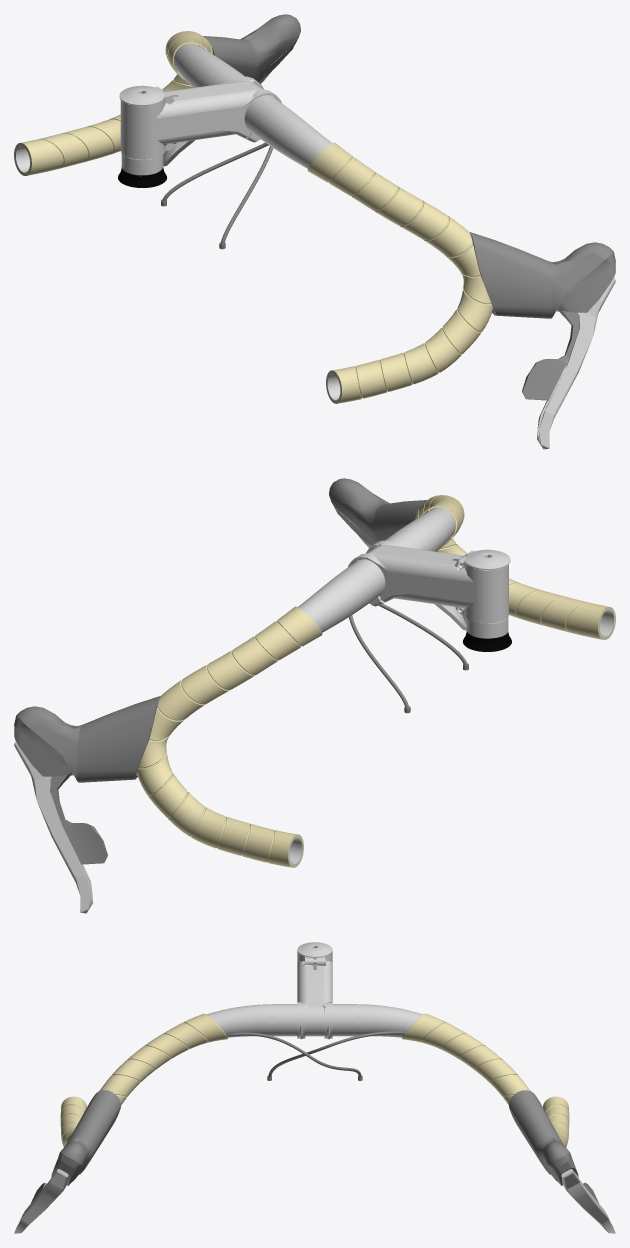
The model's file is Handle4_Track_NoShifter.glb.
3 views of the same model, one above another, from view 1: azimuth 30°, elevation 25°; view 2: azimuth 150°, elevation 25°; view 3: azimuth 270°, elevation 25° (orthographic). The views are drawn at different scales.
Parts seen in each view (by area): view 1: no_transformations (×7); view 2: no_transformations (×7); view 3: no_transformations (×6).
Part boxes in pixels (<box>): no_transformations (×7): <box>14,14,615,449</box>; no_transformations (×7): <box>14,478,615,913</box>; no_transformations (×6): <box>14,942,615,1233</box>.
Bounding box in the file's own units: 297 × 227 × 598.
